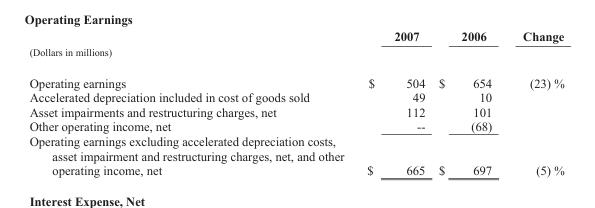table: (28, 28, 563, 177)
table column: (28, 28, 354, 177), (354, 28, 431, 177), (431, 28, 506, 177), (506, 28, 563, 177)
table column header: (28, 28, 563, 44)
table projected row header: (28, 44, 563, 66)
table row: (28, 133, 563, 177), (28, 66, 563, 89), (28, 44, 563, 66), (28, 28, 563, 44), (28, 89, 563, 104), (28, 118, 563, 133), (28, 104, 563, 118)
table spanning cell: (28, 28, 431, 44)
